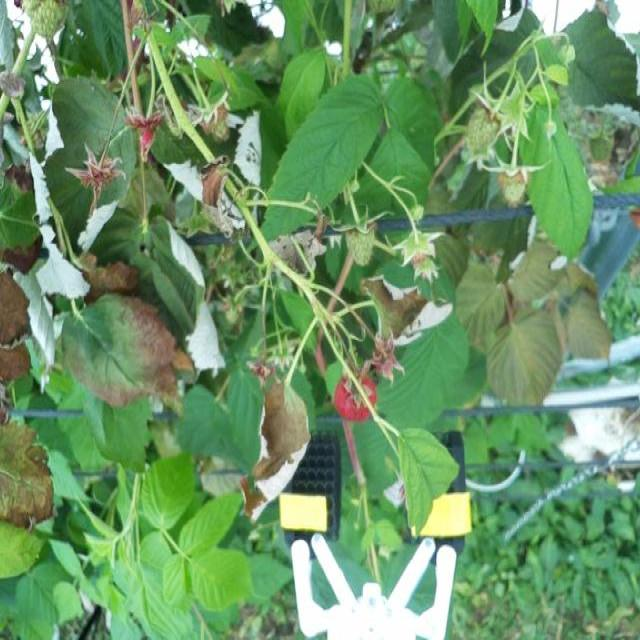Riped berries: (331, 367, 378, 422)
